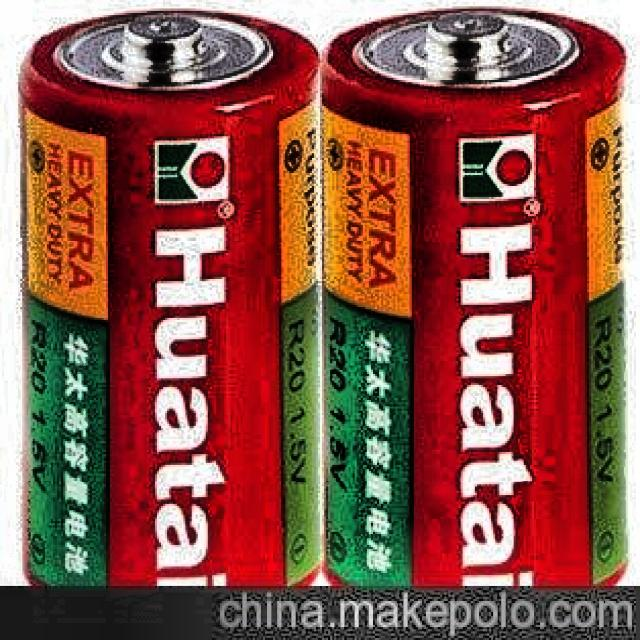Non-Valuable Waste - Batteries: (322, 11, 626, 585), (21, 13, 321, 585)
